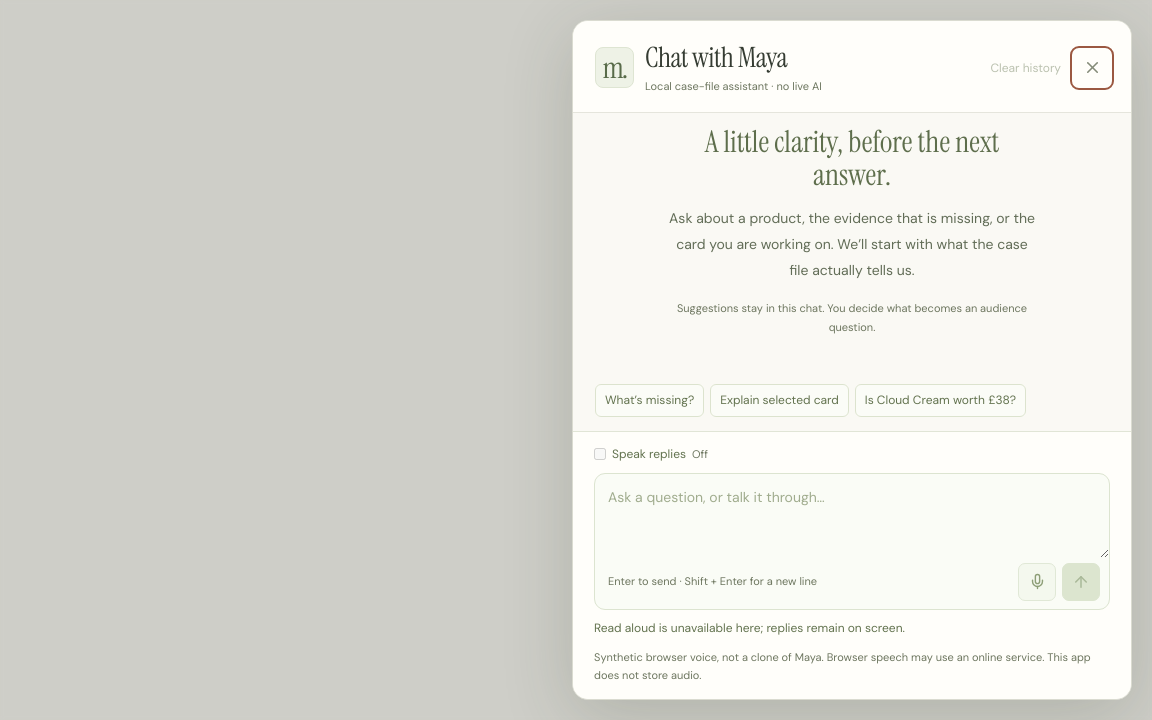
Test: chat input lifecycle with simulated browser events › retains current partial words on network error
The width and height of the screenshot is (1152, 720).
(page scrolled)
Click the button named "Start dictation": (1037, 582) [1018,562,1056,600]
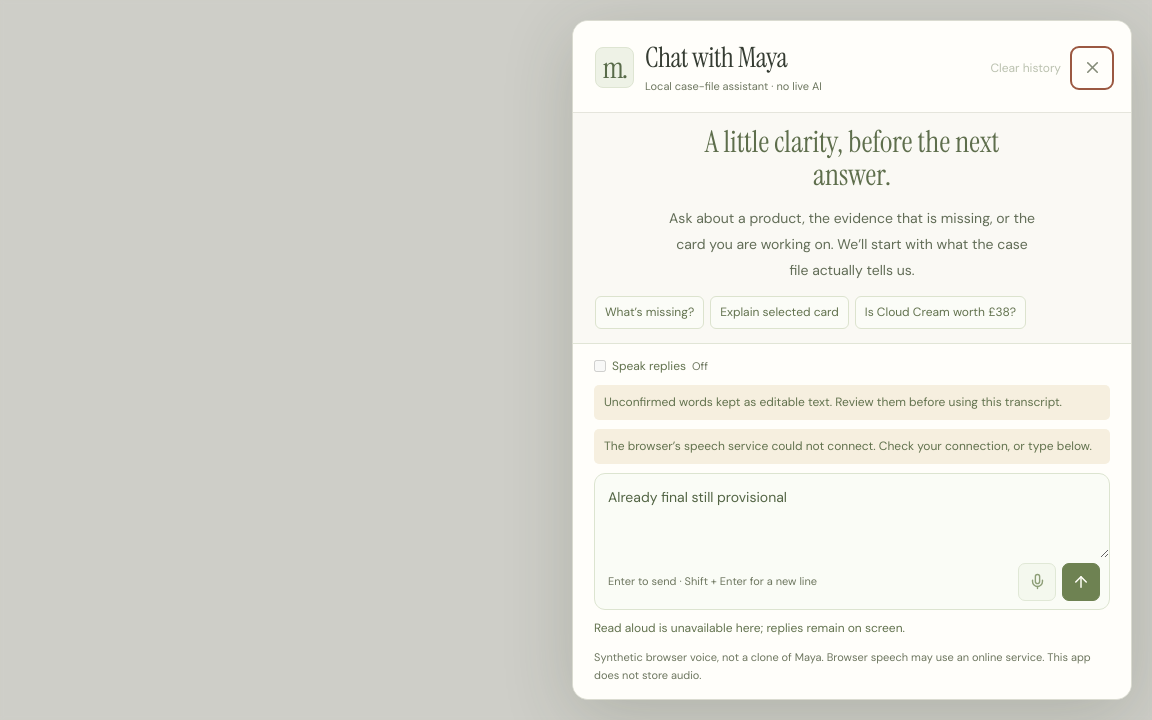
Now the text box holds "Already final still provisional", box [595,474,1109,558]
Now the text "Unconfirmed words kept as editable text. Review them before using this transcript." is shown, box [604,394,1062,410]
